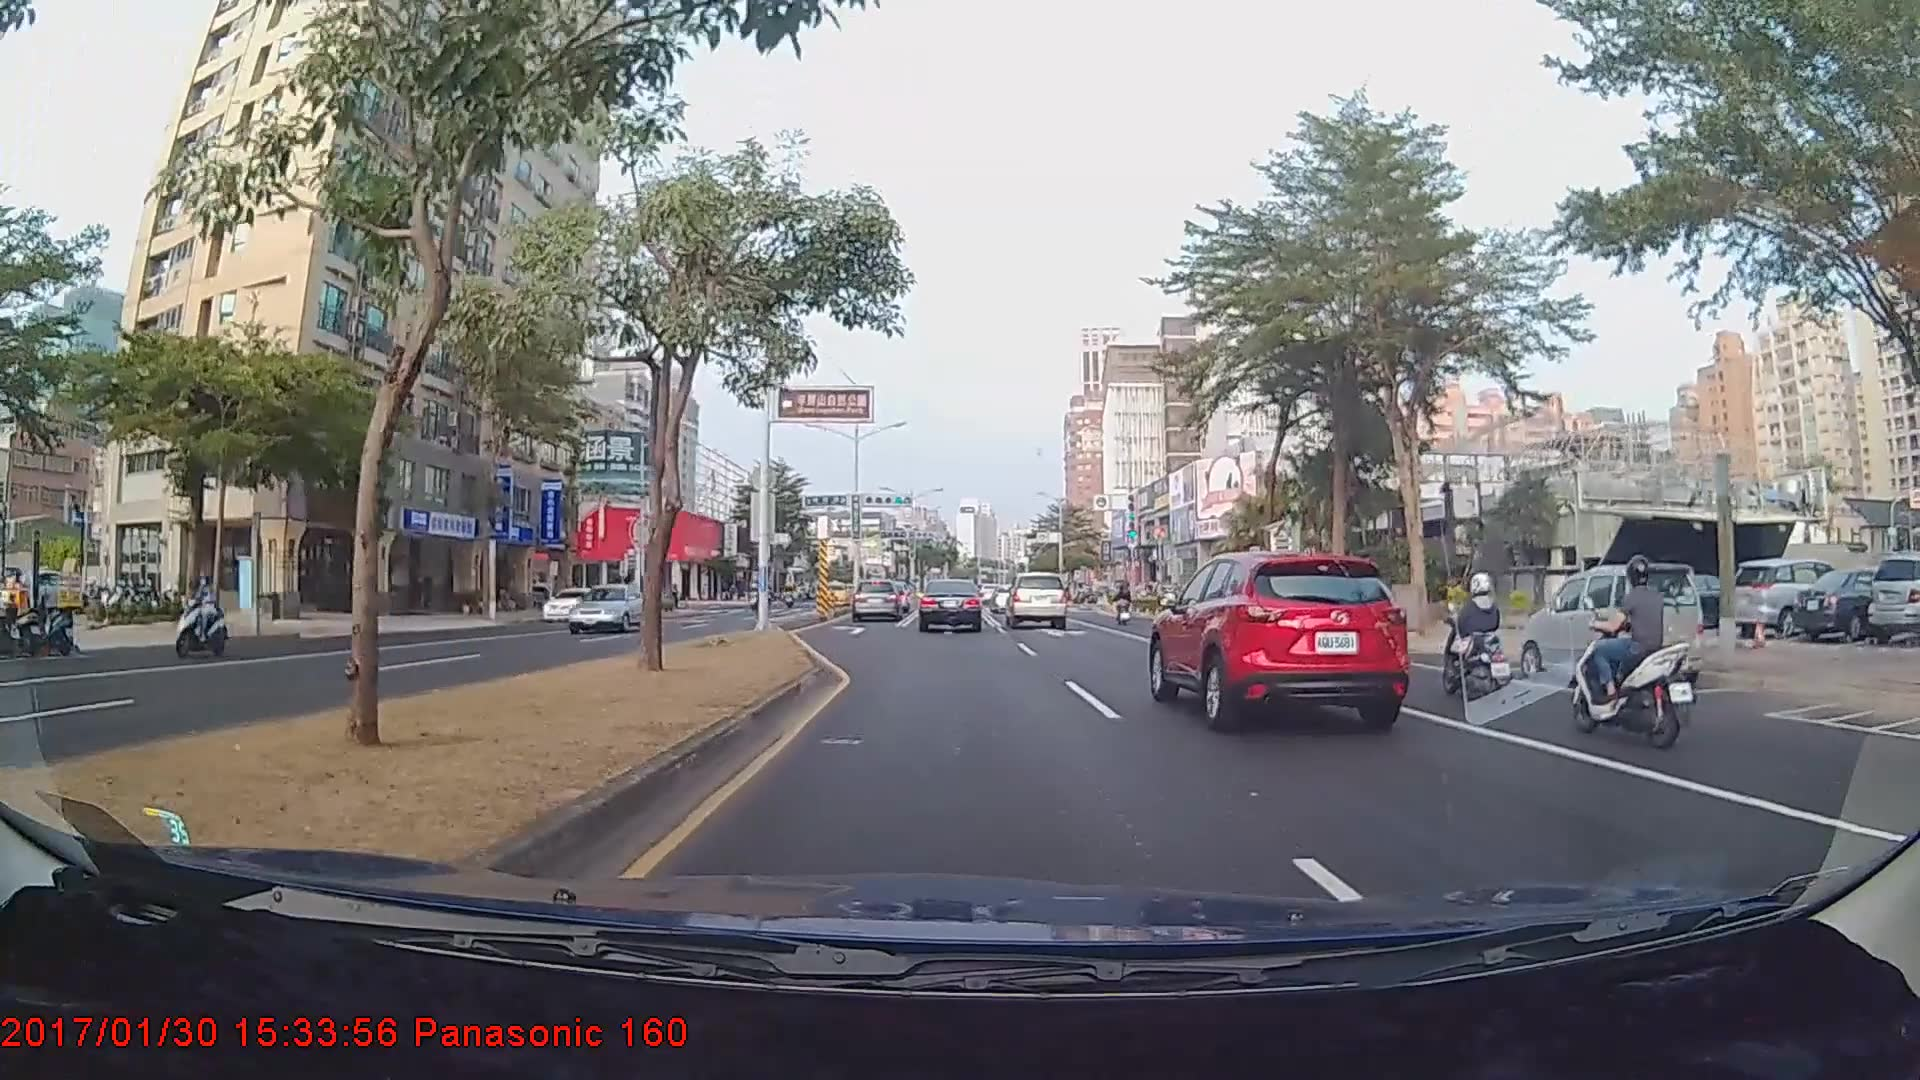rider: (1557, 554, 1695, 744), (1431, 572, 1528, 714), (168, 571, 232, 662), (1114, 586, 1138, 629)
vehicle: (1150, 544, 1412, 725), (1521, 562, 1705, 693), (1726, 560, 1857, 638), (564, 581, 649, 633), (1004, 570, 1068, 629), (919, 578, 983, 633), (849, 577, 914, 623), (542, 585, 608, 620)
